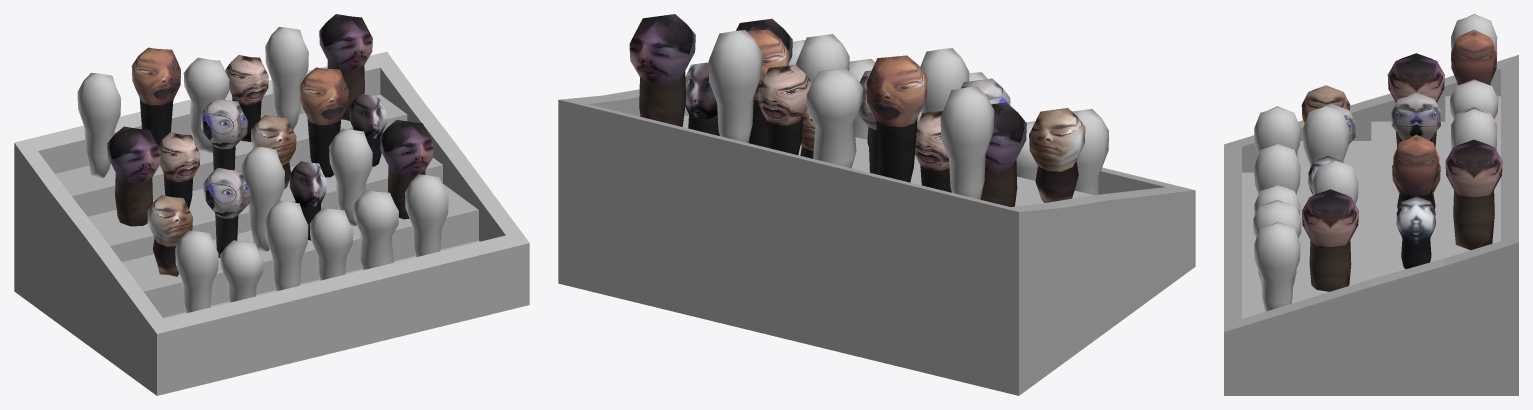
Rendered from SM_Crowd.fbx.
3 views of the same model, side by side, from view 1: azimuth 30°, elevation 25°; view 2: azimuth 150°, elevation 25°; view 3: azimuth 270°, elevation 25° (orthographic). The views are drawn at different scales.
Visible parts, largest first — view 1: grada_advanced, Box052, Box055, Box064, Box062, Box060, Box067, Box065, Box046, Box048, Box057, Box056 (+13 smaller); view 2: grada_advanced, Box064, Box065, Box067, Box062, Box066, Box058, Box063, Box052, Box050, Box057, Box044 (+9 smaller); view 3: grada_advanced, Box065, Box060, Box049, Box055, Box053, Box052, Box057, Box064, Box051, Box046, Box044 (+10 smaller).
Part boxes in pixels (x1,y1,x2,y2): grada_advanced: (14, 51, 529, 395); Box052: (107, 126, 160, 226); Box055: (299, 67, 348, 177); Box064: (131, 47, 180, 144); Box062: (77, 73, 120, 178); Box060: (380, 120, 433, 219); Box067: (265, 27, 308, 129); Box065: (319, 14, 372, 120); Box046: (265, 200, 308, 291); Box048: (353, 189, 398, 270); Box057: (241, 146, 284, 251); Box056: (329, 128, 372, 225); grada_advanced: (558, 89, 1195, 395); Box064: (866, 55, 927, 182); Box065: (629, 14, 695, 126); Box067: (708, 30, 762, 142); Box062: (940, 86, 994, 199); Box066: (806, 68, 862, 168); Box058: (1029, 108, 1085, 202); Box063: (758, 64, 811, 154); Box052: (980, 102, 1026, 206); Box050: (915, 110, 951, 192); Box057: (920, 48, 969, 114); Box044: (1072, 109, 1109, 195); grada_advanced: (1224, 55, 1518, 395); Box065: (1445, 139, 1502, 250); Box060: (1302, 189, 1358, 291); Box049: (1254, 222, 1300, 311); Box055: (1393, 134, 1439, 203); Box053: (1396, 196, 1436, 268); Box052: (1387, 53, 1444, 146); Box057: (1303, 105, 1348, 195); Box064: (1451, 30, 1497, 85); Box051: (1391, 92, 1441, 140); Box046: (1254, 143, 1300, 194); Box044: (1254, 106, 1300, 154).
Bounding box in the file's own units: 6.65 × 3.91 × 4.42.
